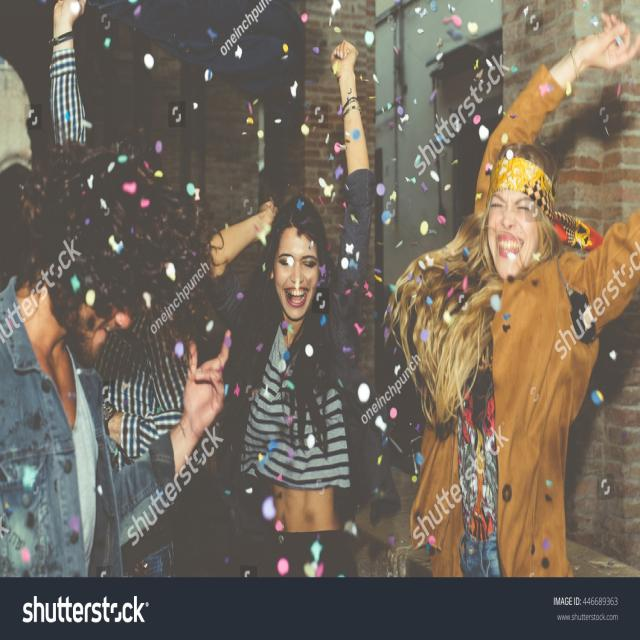body: (385, 11, 640, 576), (46, 1, 233, 577), (0, 136, 236, 577), (200, 35, 382, 579), (557, 284, 640, 547), (506, 78, 637, 193)
